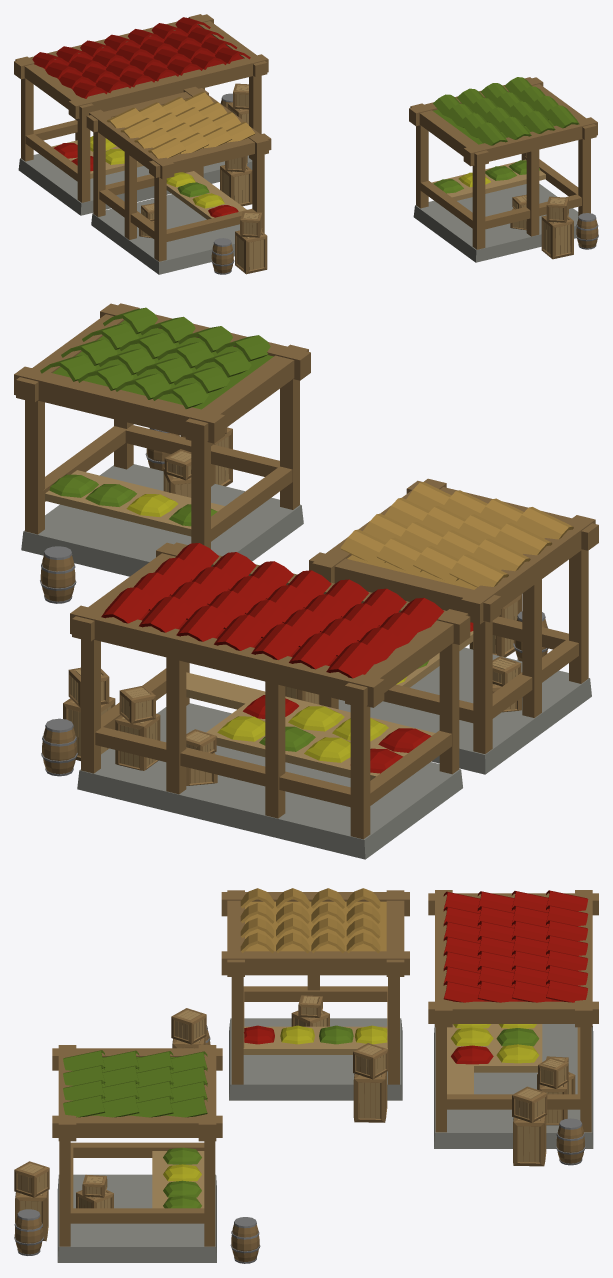
File: Market Stalls-OLd8vu6lPL.glb
The picture shows the model from 3 angles, top to bottom: view 1: azimuth 30°, elevation 25°; view 2: azimuth 150°, elevation 25°; view 3: azimuth 270°, elevation 25°; orthographic projection. The views are drawn at different scales.
Parts seen in each view (by area): view 1: Market_SecondAge_Level2; view 2: Market_SecondAge_Level2; view 3: Market_SecondAge_Level2.
Part boxes in pixels (x1=…): Market_SecondAge_Level2: x1=14, y1=14, x2=598, y2=274; Market_SecondAge_Level2: x1=14, y1=303, x2=598, y2=859; Market_SecondAge_Level2: x1=14, y1=888, x2=598, y2=1263.
Size of the model in its own units: 1.92 by 0.6571 by 2.01.
